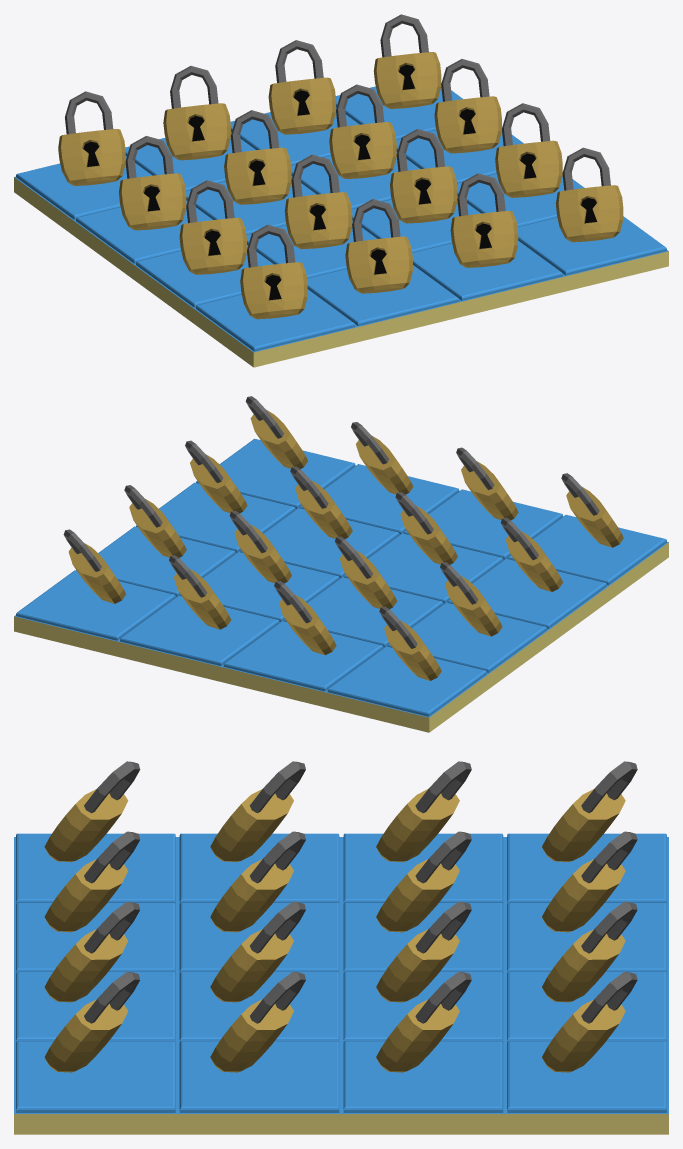
The model's file is kilitli_ada.fbx.
3 views of the same model, one above another, from view 1: azimuth 30°, elevation 25°; view 2: azimuth 150°, elevation 25°; view 3: azimuth 270°, elevation 25° (orthographic). The views are drawn at different scales.
Parts seen in each view (by area): view 1: Torus.005, Cube; view 2: Cube, Torus.005; view 3: Cube, Torus.005.
Boxes of the visible parts, <box> form: Torus.005: <box>58,14,623,319</box>; Cube: <box>14,86,668,367</box>; Cube: <box>14,438,668,732</box>; Torus.005: <box>63,396,623,680</box>; Cube: <box>14,833,668,1134</box>; Torus.005: <box>44,761,637,1072</box>.
Bounding box in the file's own units: 2162 × 485 × 2162.
